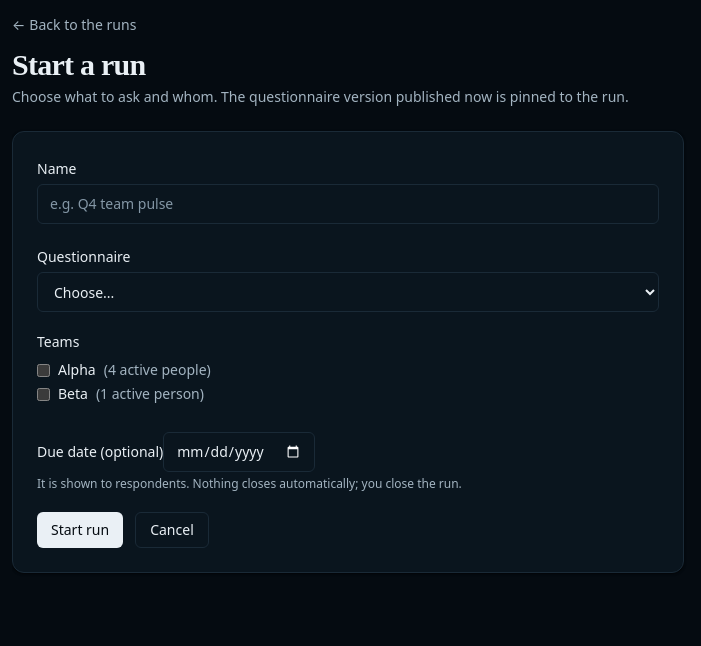
Test: StartRunPage › says what is missing without sending anything
Click the button "Start run".
click(80, 530)  # box [37,512,123,548]
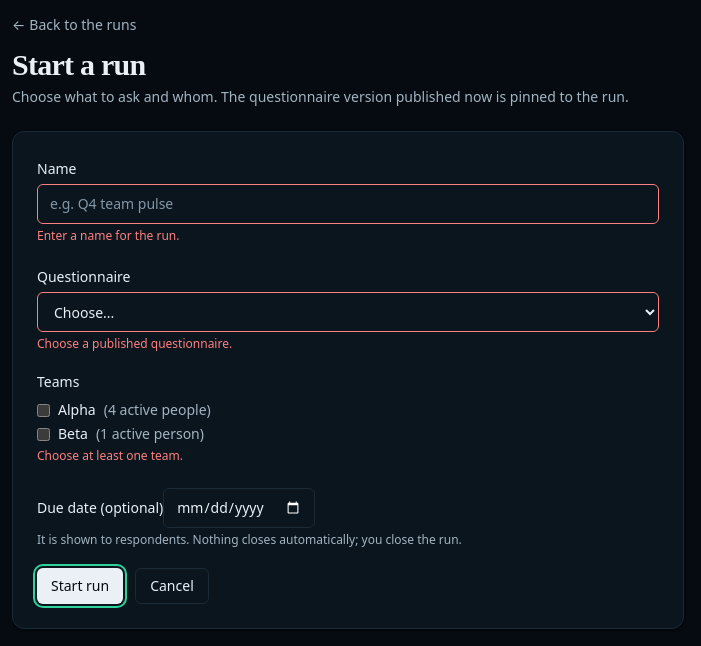
Expected: the text "Enter a name for the run." is shown, [37,227,180,244]
Expected: the text "Choose a published questionnaire." is shown, [37,335,232,352]
Expected: the text "Choose at least one team." is shown, [37,447,183,464]
